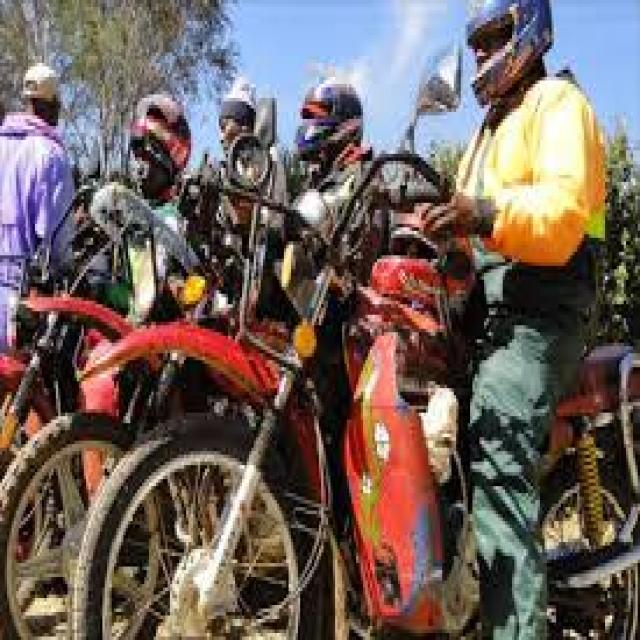bodaboda: (58, 17, 640, 633)
